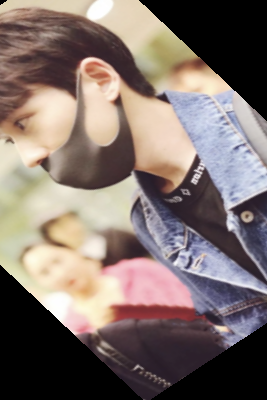mask_weared_incorrect: (1, 3, 161, 202)
